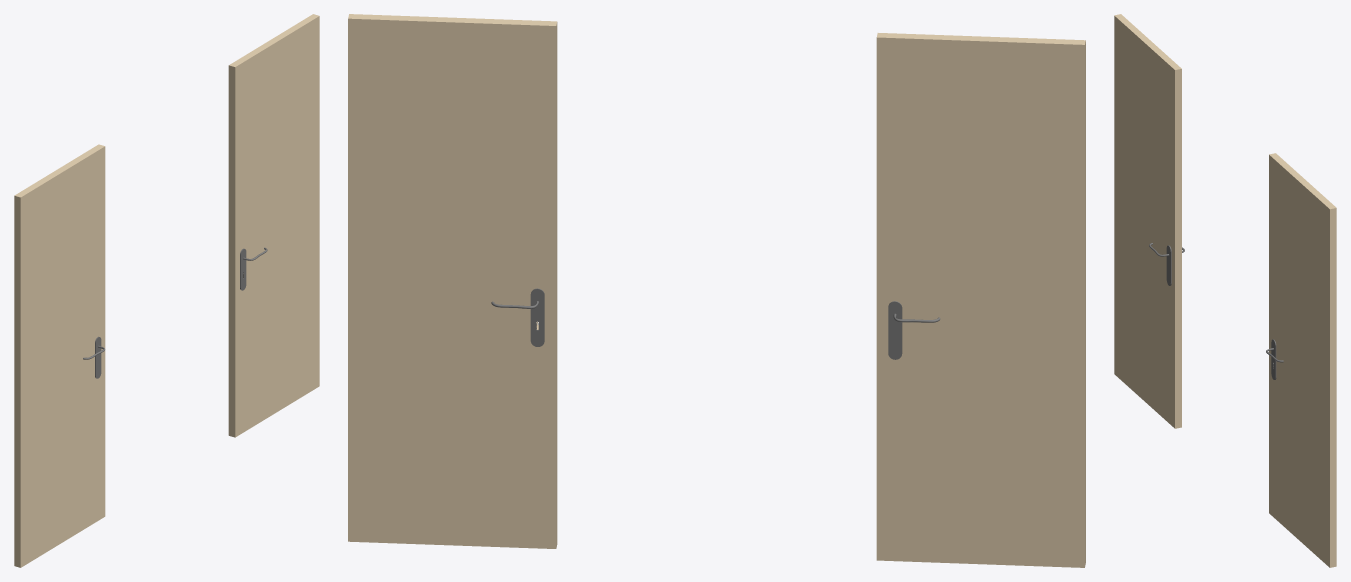
File: Türen.fbx
The picture shows the model from 3 angles, left to right: view 1: azimuth 30°, elevation 25°; view 2: azimuth 150°, elevation 25°; view 3: azimuth 270°, elevation 25°; orthographic projection. The views are drawn at different scales.
Parts seen in each view (by area): view 1: Holz, innen, Metall; view 2: Holz, innen, Metall; view 3: Holz, innen, Metall.
Boxes of the visible parts, <box> form: Holz, innen: <box>14,14,319,567</box>; Metall: <box>83,247,267,378</box>; Holz, innen: <box>348,14,1085,567</box>; Metall: <box>491,288,940,359</box>; Holz, innen: <box>1114,14,1336,567</box>; Metall: <box>1149,243,1283,379</box>.
Size of the model in its own units: 2.42 by 2.07 by 1.17.
